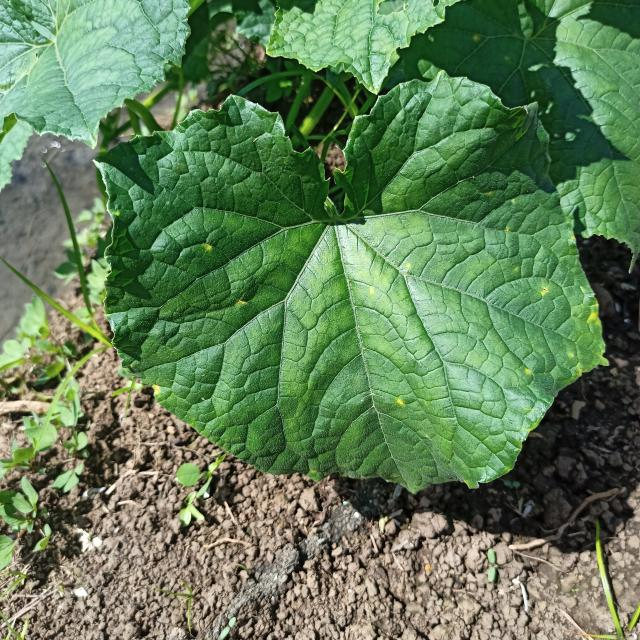disease_cucumber: (588, 304, 600, 328), (236, 298, 249, 305), (541, 287, 549, 295), (154, 384, 160, 394), (369, 287, 375, 296), (205, 244, 212, 251), (113, 211, 121, 217), (396, 399, 404, 405), (570, 234, 576, 241), (406, 263, 411, 269), (526, 369, 532, 374), (505, 228, 510, 232)
